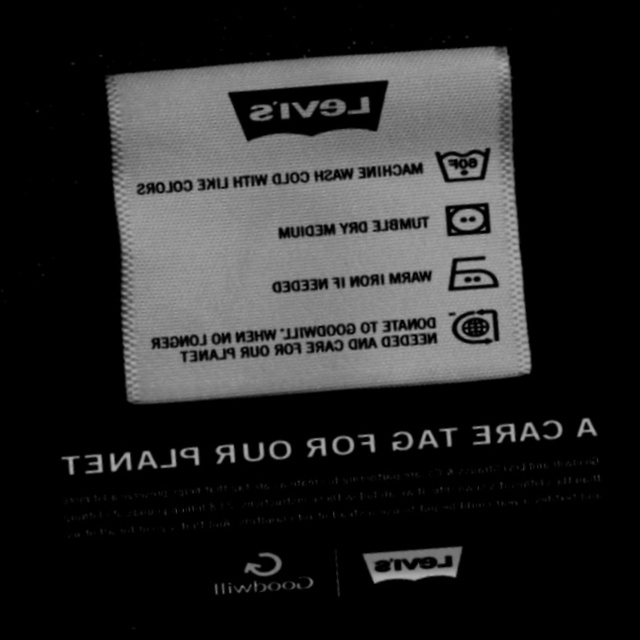30C: (414, 119, 511, 208)
iron_medium: (425, 231, 517, 316)
tumble_dry_medium: (425, 182, 511, 260)
